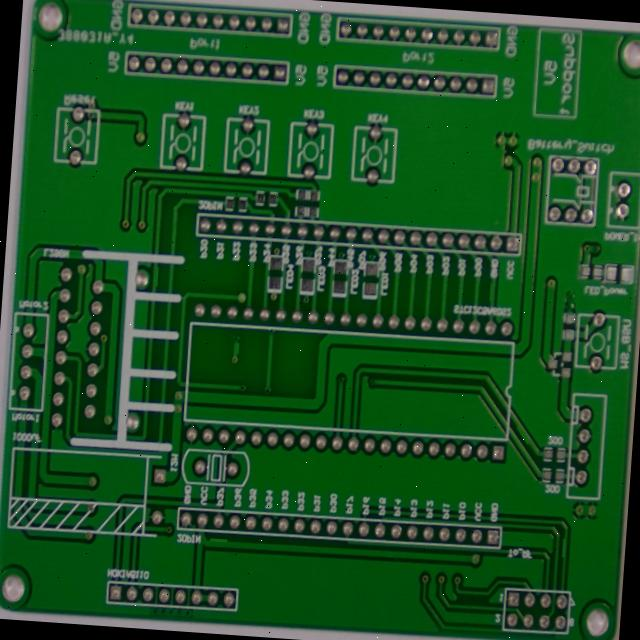spur: (178, 575, 207, 595), (502, 457, 524, 480), (472, 299, 488, 328), (551, 575, 566, 605), (202, 365, 220, 385)
